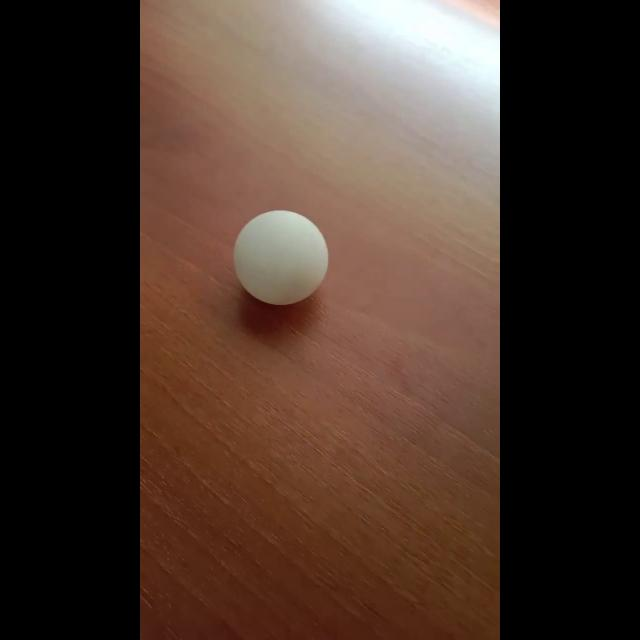white ball: (232, 210, 328, 306)
